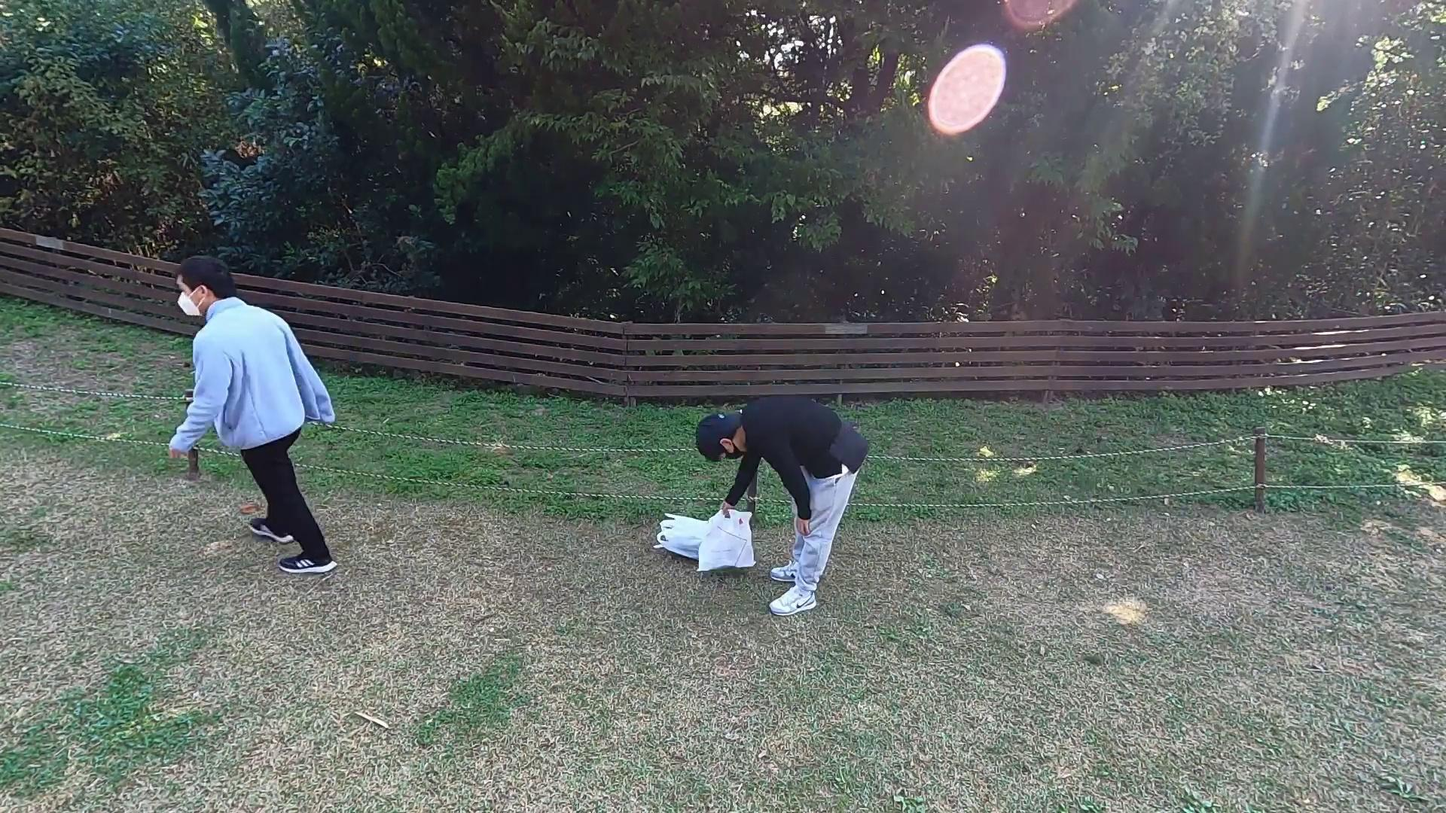person: (166, 252, 350, 583), (695, 393, 866, 617)
trash: (696, 507, 756, 576), (657, 514, 720, 564)
